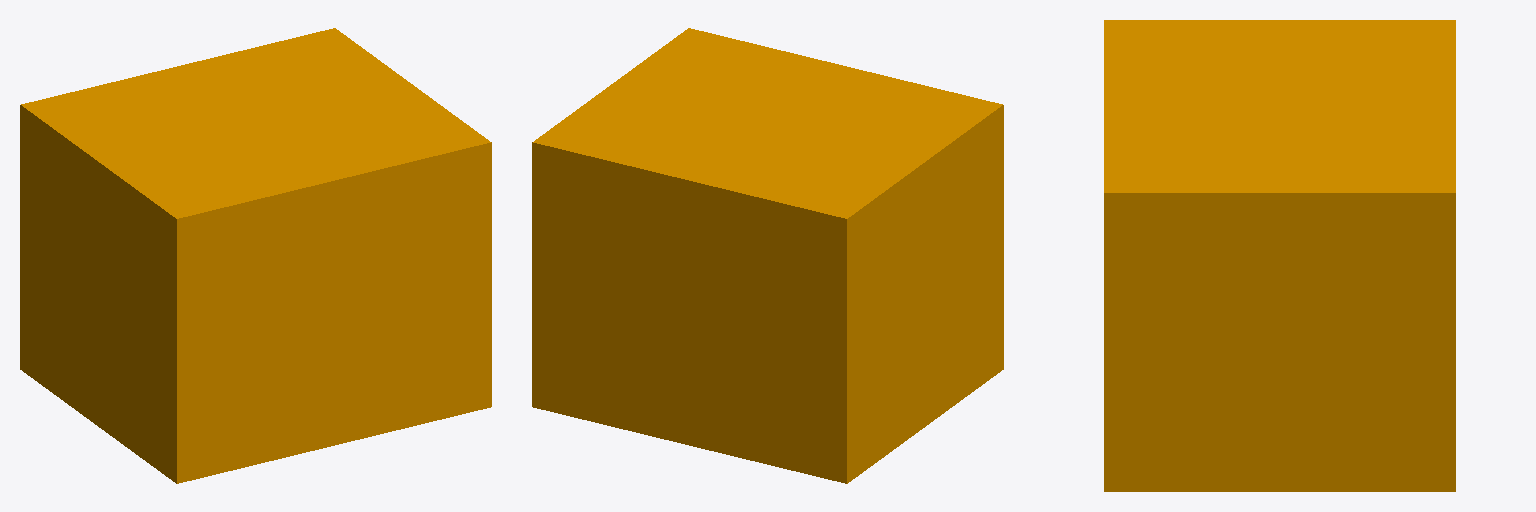
The robot description file, URDF, robot "object":
<?xml version="1.0"?>
<!-- Auto-generated by tools/gen_primitive_objects.py. kind=box dims=(0.077322, 0.066527, 0.062208) -->
<robot name="object">
  <link name="object">
    <visual>
      <origin xyz="0 0 0"/>
      <geometry>
        <box size="0.077322 0.066527 0.062208"/>
      </geometry>
    </visual>
    <collision>
      <origin xyz="0 0 0"/>
      <geometry>
        <box size="0.077322 0.066527 0.062208"/>
      </geometry>
    </collision>
    <inertial>
      <mass value="0.064000"/>
      <inertia ixx="0.00004424" ixy="0.0" ixz="0.0" iyy="0.00005253" iyz="0.0" izz="0.00005549"/>
    </inertial>
  </link>
</robot>

--- Render facts (derived) ---
The picture shows the robot from 3 angles, left to right: view 1: azimuth 30°, elevation 25°; view 2: azimuth 150°, elevation 25°; view 3: azimuth 270°, elevation 25°; orthographic projection.
Robot: object — 1 links, 0 joints (none); root link object; default pose: every joint at zero.
Links seen in each view (by area): view 1: object; view 2: object; view 3: object.
Link boxes in pixels (x1=…): object: x1=20, y1=28, x2=491, y2=483; object: x1=532, y1=28, x2=1003, y2=483; object: x1=1104, y1=20, x2=1455, y2=491.
Size in the robot's own frame: 0.0773 by 0.0665 by 0.0622 metres.
Geometry: primitives only (box / cylinder / sphere), no mesh files.
